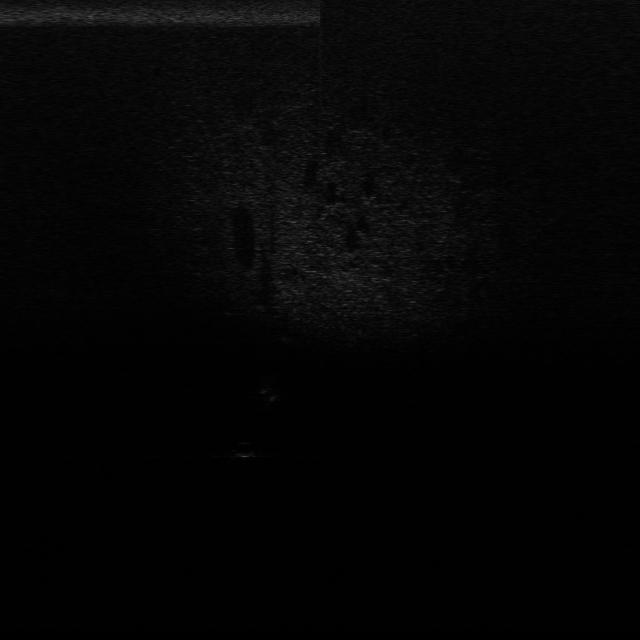ball: (231, 439, 258, 462)
human body: (260, 371, 280, 413)
